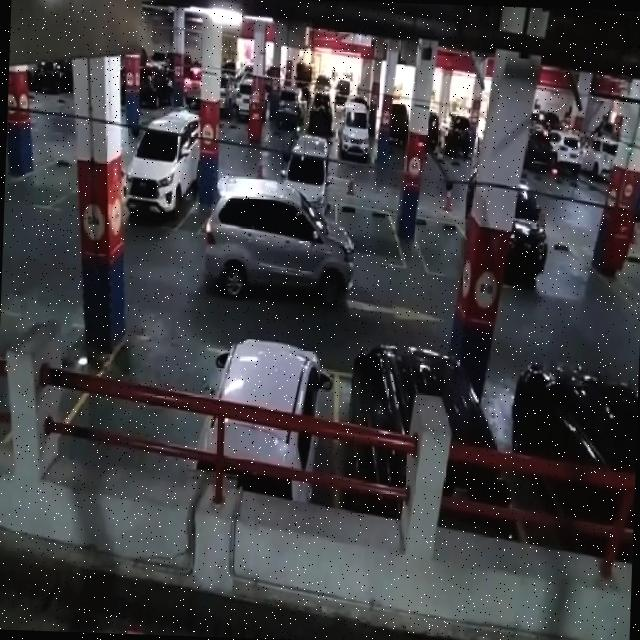empty: (92, 328, 217, 457), (0, 304, 86, 440), (333, 202, 409, 270), (412, 216, 467, 278)
occupied: (330, 344, 502, 504), (196, 347, 341, 498), (124, 118, 200, 234)
